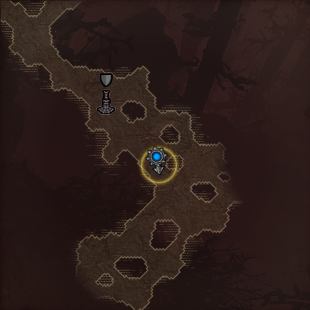Guardian2: (139, 144, 178, 185)
